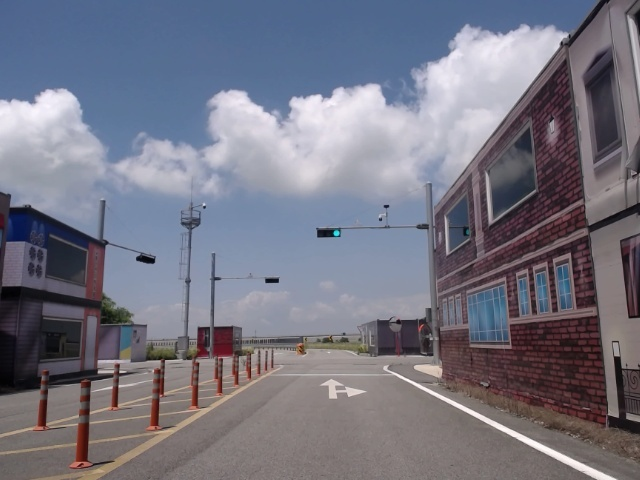green_3: (317, 229, 341, 237)
